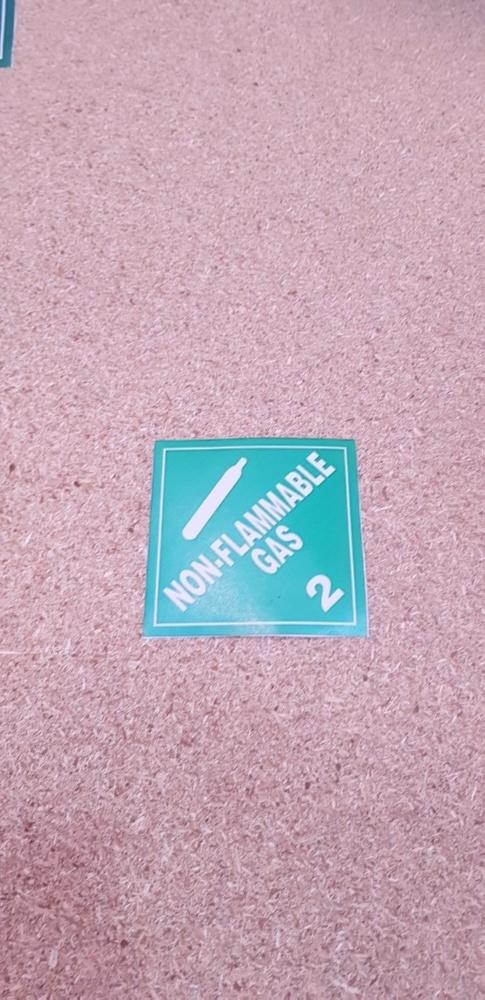non-flammable-gas: (142, 439, 371, 638)
